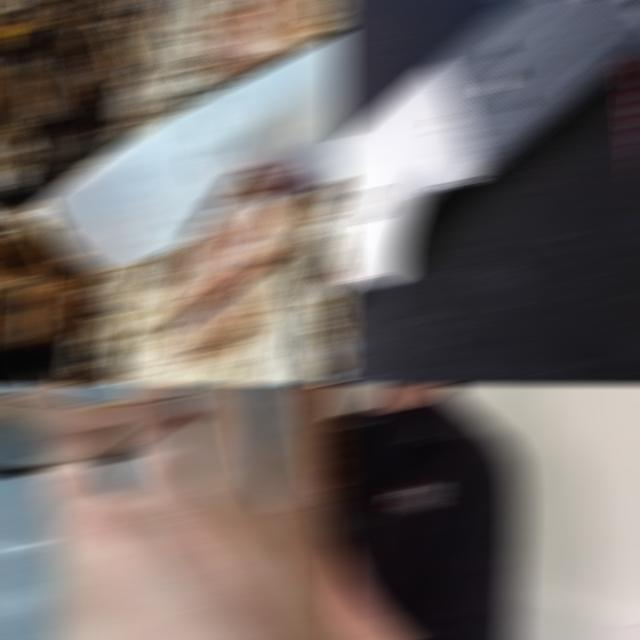Knife: (0, 396, 190, 469)
